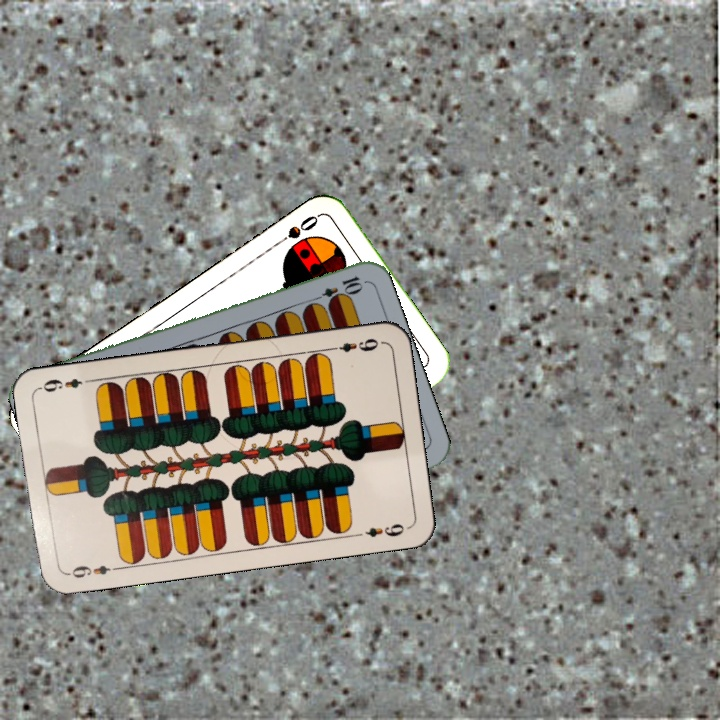E10: (307, 272, 365, 306)
E9: (63, 561, 122, 581), (325, 334, 381, 355)
SO: (270, 211, 322, 249)
